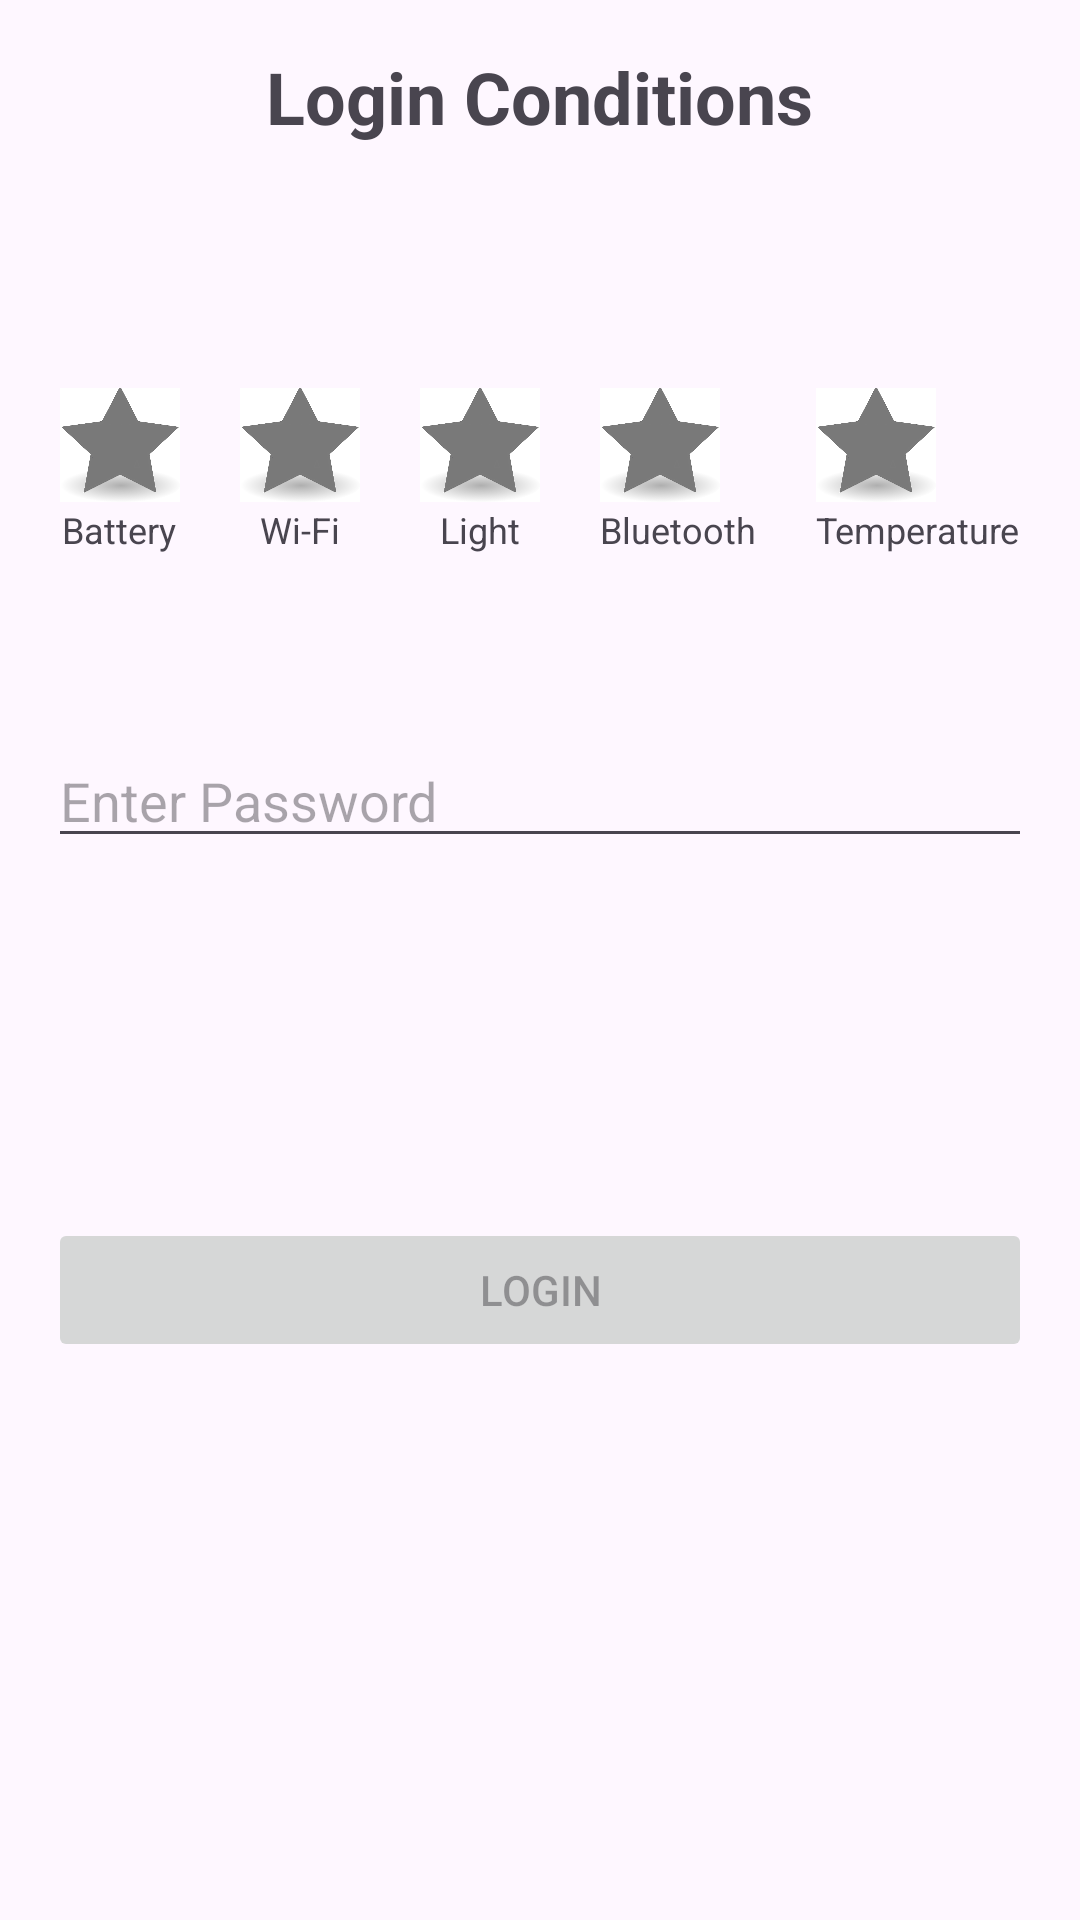

Named icons in this screenshot (1080px x 1920px) and their centers, (x=x, y=y):
star: (x=120, y=442), (x=300, y=442), (x=480, y=442), (x=660, y=442), (x=876, y=442)
